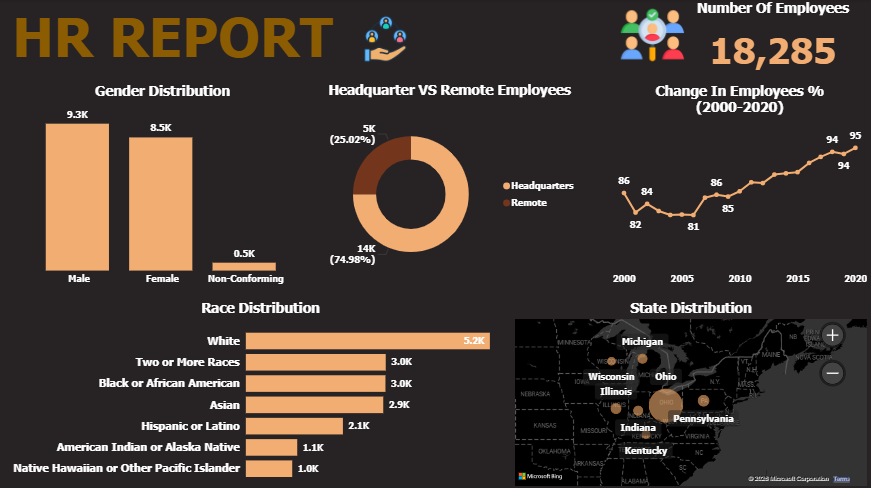

This screenshot's page, from the dashboard's own definition file:
{"tool":"powerbi","page":{"name":"Report P1","canvas":[1280,720],"ordinal":0},"visuals":[{"type":"textbox","box":[14.8,0,971.4,121.1],"z":0},{"type":"columnChart","title":"Gender Distribution","fields":{"Category":["gender.Column1"],"Y":["Sum(gender.Column2)"]},"box":[14.7,122,451.1,307.1],"z":1000},{"type":"donutChart","title":"Headquarter VS Remote Employees","fields":{"Category":["locations.Column1"],"Y":["Sum(locations.Column2)"]},"box":[465.2,120.3,392.8,308.7],"z":2000},{"type":"lineChart","title":"Employee Cohort Retention (%)","fields":{"Category":["cohort_retention.Column1"],"Y":["Sum(cohort_retention.Column4)"]},"box":[895.7,121.7,384.1,307.2],"z":3000},{"type":"clusteredBarChart","title":"Race Distribution","fields":{"Category":["race.Column1"],"Y":["Sum(race.Column2)"]},"box":[14.5,440.6,739.1,279.7],"z":4000},{"type":"map","title":"State Distribution","fields":{"Size":["Sum(state.Column2)"],"Category":["state.Column1"]},"box":[753.6,440.6,526.1,279.7],"z":5000},{"type":"card","title":"Current Employees","fields":{"Values":["Sum(number_of_employees.Column1)"]},"box":[994.8,0,285.1,120.5],"z":6000},{"type":"image","box":[897.8,1.5,157.2,102.9],"z":7000},{"type":"image","box":[490.8,10.3,116.1,88.2],"z":8000},{"type":"textbox","box":[596.6,19.1,314.4,89.6],"z":8001}]}

Visuals, with their boxes in screenshot pixels (x1, y1, x2, y2), scaled from the page's 1280x720 canvas onto the 871x488 screenshot:
textbox: box(10, 0, 671, 82)
"Gender Distribution" columnChart: box(10, 83, 317, 291)
"Headquarter VS Remote Employees" donutChart: box(317, 82, 584, 291)
"Employee Cohort Retention (%)" lineChart: box(609, 82, 870, 291)
"Race Distribution" clusteredBarChart: box(10, 299, 513, 487)
"State Distribution" map: box(513, 299, 870, 487)
"Current Employees" card: box(677, 0, 870, 82)
image: box(611, 1, 718, 71)
image: box(334, 7, 413, 67)
textbox: box(406, 13, 620, 74)
